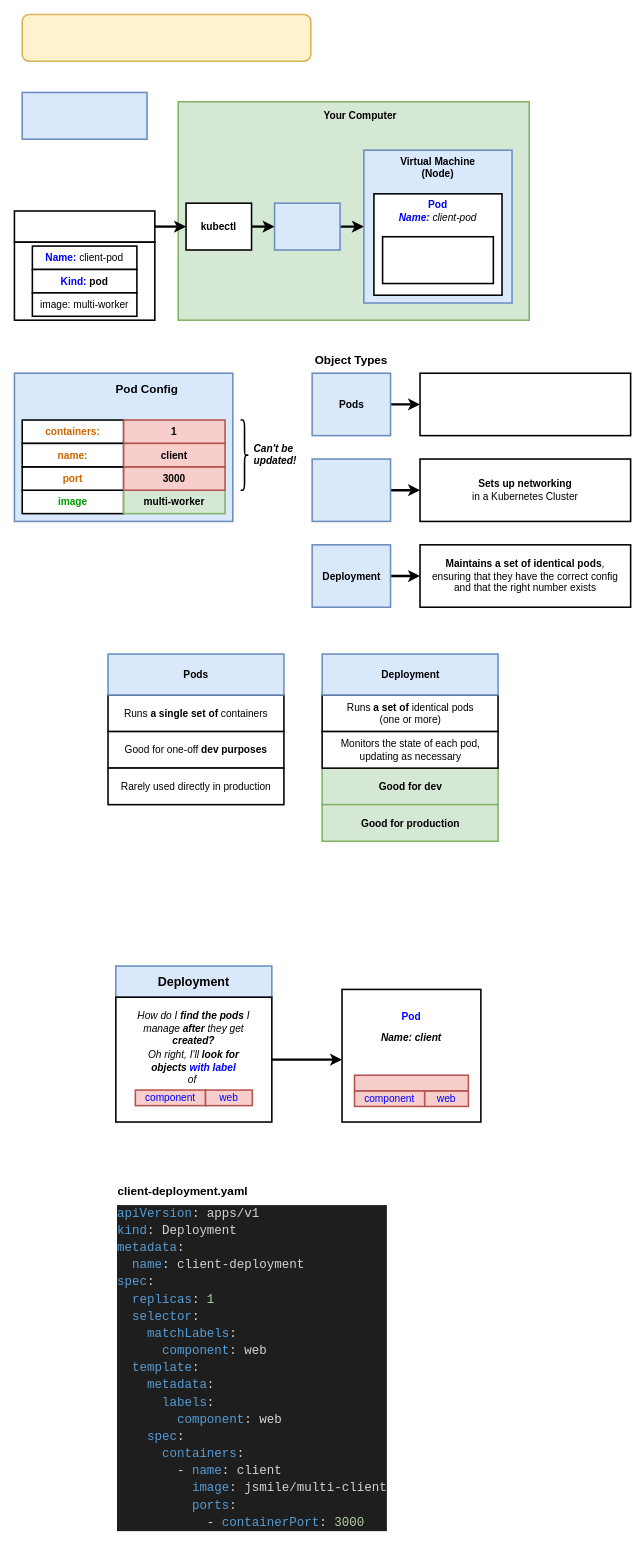
The diagram is 644 pixels wide and 1548 high, and some of its shapes have lost their labels. Here are the shapes that lost their labels. From the top down, the centre of each, then its label:
the point at 166,37: Updating & Deployments on kubernates
the point at 84,115: Updating an Object
the point at 84,226: Updated Config File
the point at 306,226: Master
the point at 437,260: multi-client container
the point at 525,404: Runs one or more closely related containers
the point at 351,490: Services
the point at 411,1082: Labels
